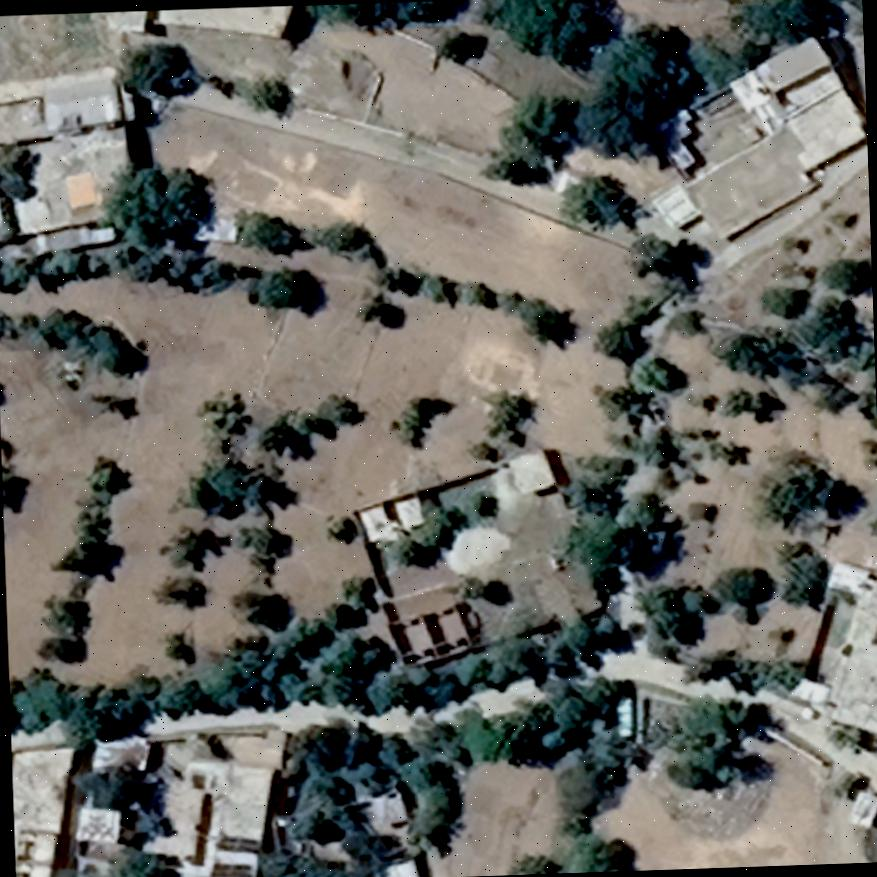Solarpanel: (212, 831, 264, 858), (204, 858, 256, 877)
